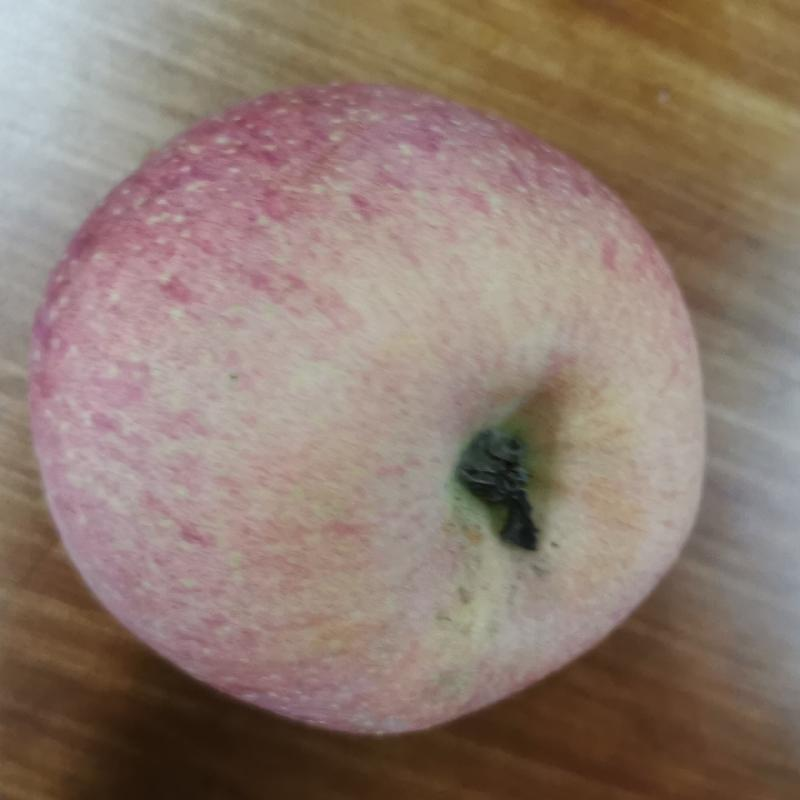apples: (28, 76, 709, 738)
